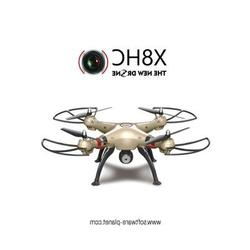drone: (40, 105, 212, 187)
